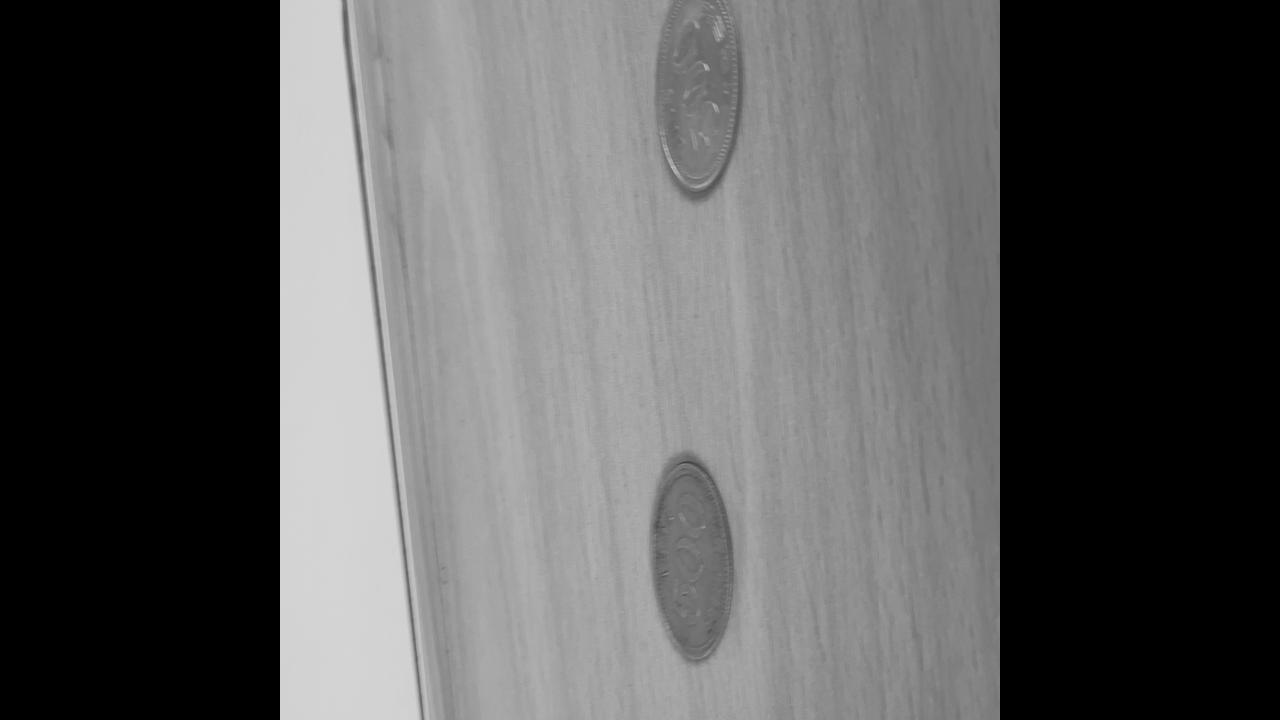coin: (650, 454, 736, 668), (654, 0, 742, 196)
